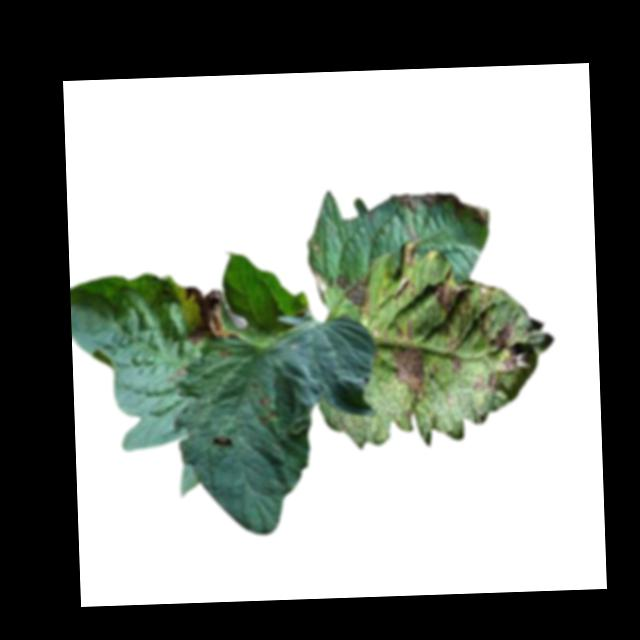Early_blight: (390, 189, 490, 229), (387, 315, 424, 402), (433, 278, 495, 321), (181, 286, 226, 345), (472, 351, 529, 396), (337, 276, 373, 321), (480, 312, 520, 352), (254, 395, 278, 427), (448, 353, 463, 376), (210, 435, 231, 448)
